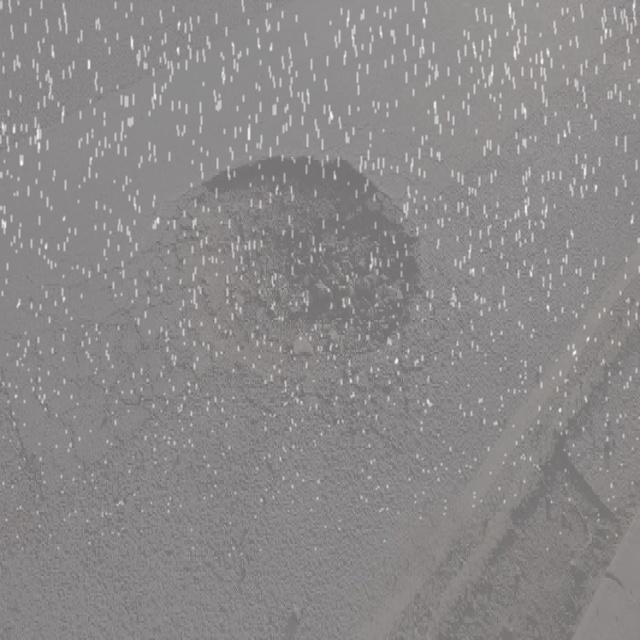Pothole: (152, 138, 421, 363)
